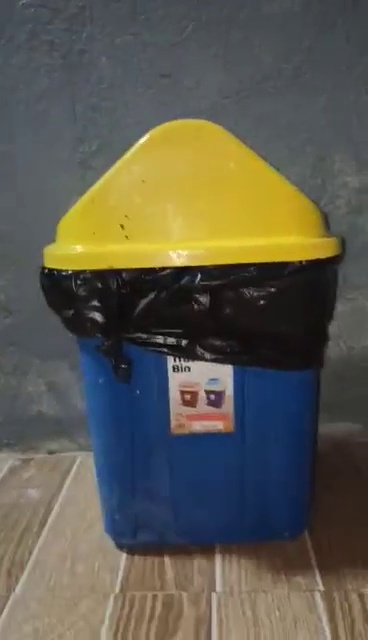garbagebin: (42, 112, 342, 554)
